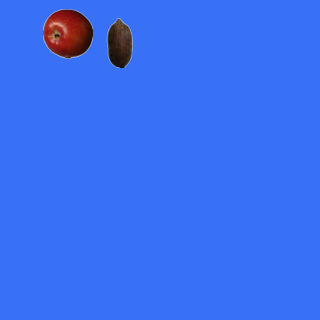Apple Braeburn: (42, 8, 92, 58)
Nut Pecan: (94, 17, 144, 67)
